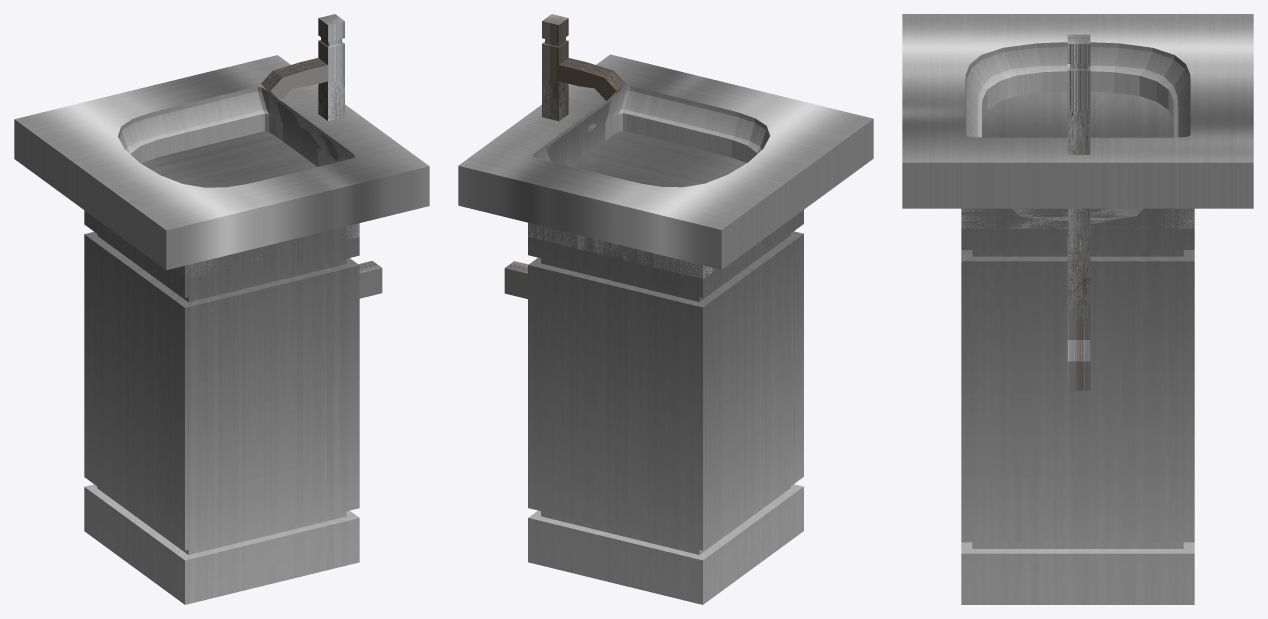
Rendered from sink.glb.
3 renders of one model, left to right at view 1: azimuth 30°, elevation 25°; view 2: azimuth 150°, elevation 25°; view 3: azimuth 270°, elevation 25°, orthographic. The views are drawn at different scales.
Visible parts, largest first — view 1: base, glass, Cube.001, sink; view 2: base, glass, Cube.001, sink; view 3: base, glass, Cube.001, sink.
Boxes of the visible parts, box(x1,y1,x2,y2) form: base: box(84, 131, 359, 604); glass: box(14, 55, 429, 270); Cube.001: box(261, 14, 382, 298); sink: box(173, 101, 359, 279); base: box(528, 131, 803, 604); glass: box(458, 54, 873, 269); Cube.001: box(504, 14, 625, 298); sink: box(528, 101, 715, 279); base: box(961, 91, 1194, 604); glass: box(902, 14, 1253, 208); Cube.001: box(1067, 34, 1090, 390); sink: box(961, 209, 1194, 228).
Size of the model in its own units: 3.29 by 5.47 by 3.02.
Materials: 2 (2 with a texture image).
